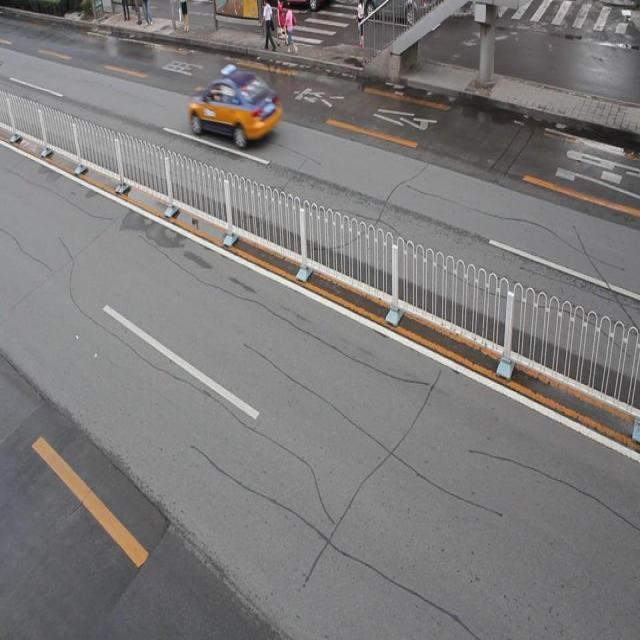car: (188, 68, 282, 146)
